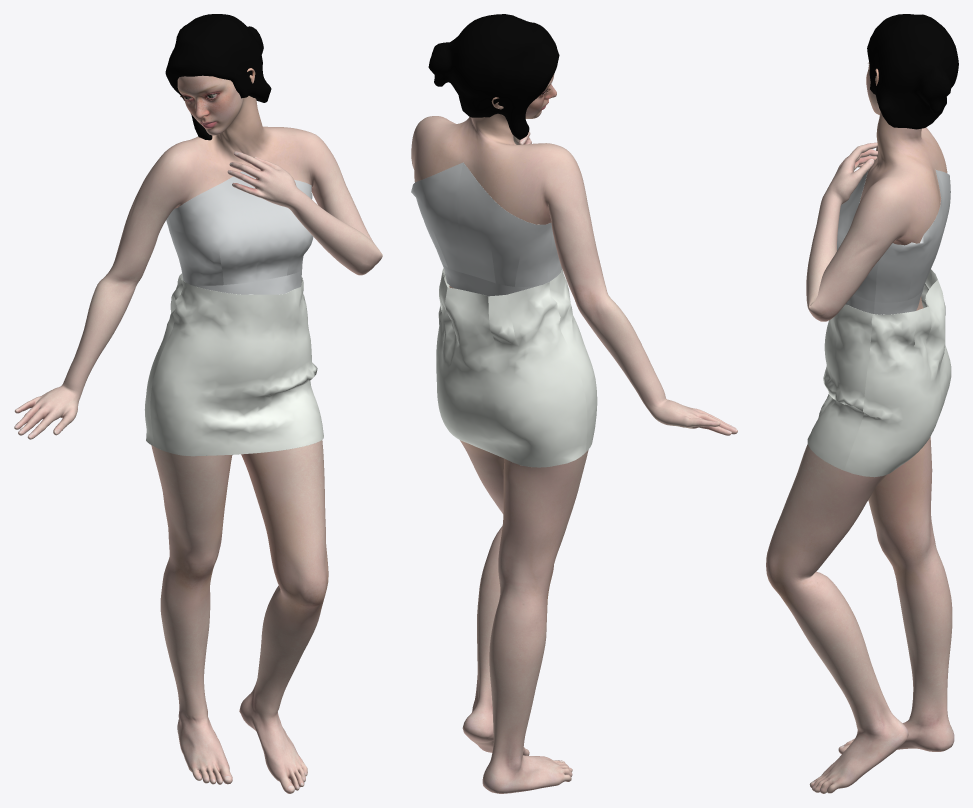
File: Dynamic_2.obj
3 views of the same model, side by side, from view 1: azimuth 30°, elevation 25°; view 2: azimuth 150°, elevation 25°; view 3: azimuth 270°, elevation 25° (orthographic). The views are drawn at different scales.
Bounding box in the file's own units: 813 × 1767 × 408.
